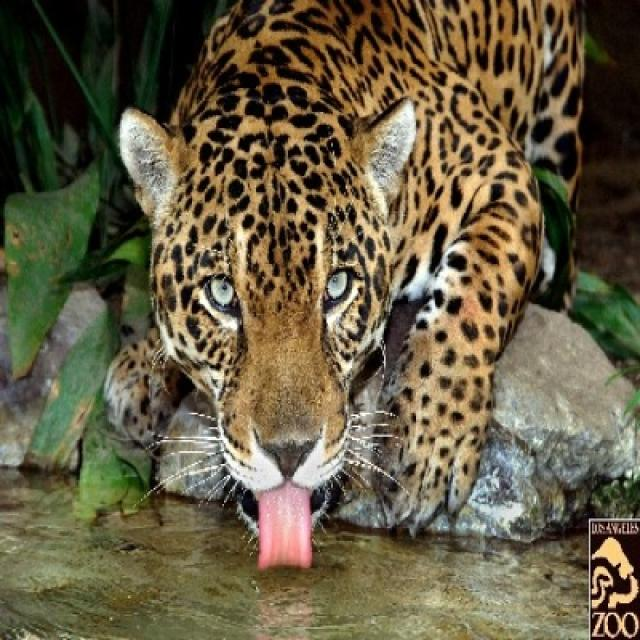Jaguar: (104, 0, 586, 571)
